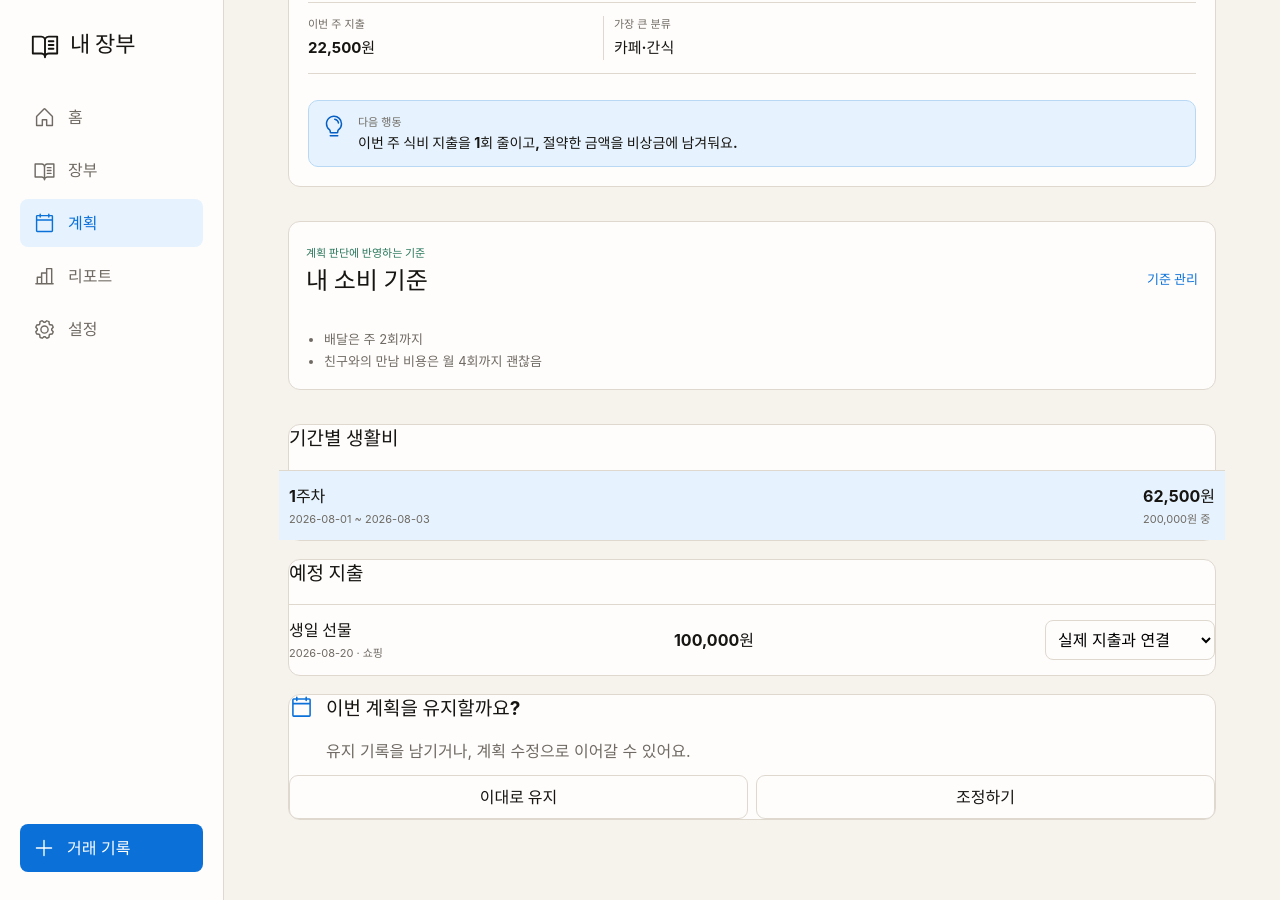
spending plan flow › shows active progress, bounded narrative, check-in, and manual matching
(page scrolled)
Click the button "이대로 유지" at coordinates (518, 797), box [289,775,748,819]
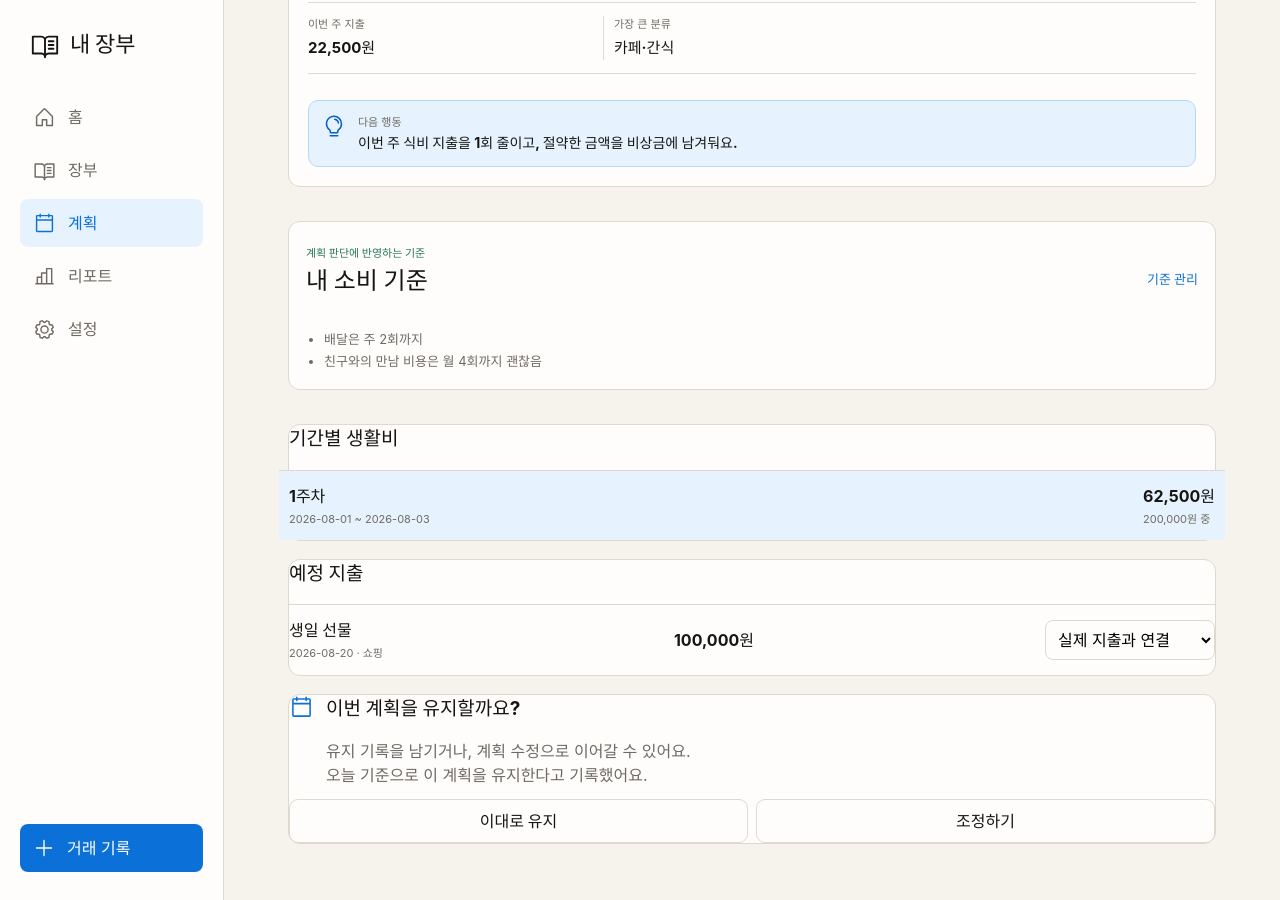
Now the message shows "유지한다고 기록", box [326,765,648,785]
Select "카페 온도 · 12,000원" in the dropdown named "생일 선물과 연결할 거래" at coordinates (1130, 640), box [1045,620,1215,660]
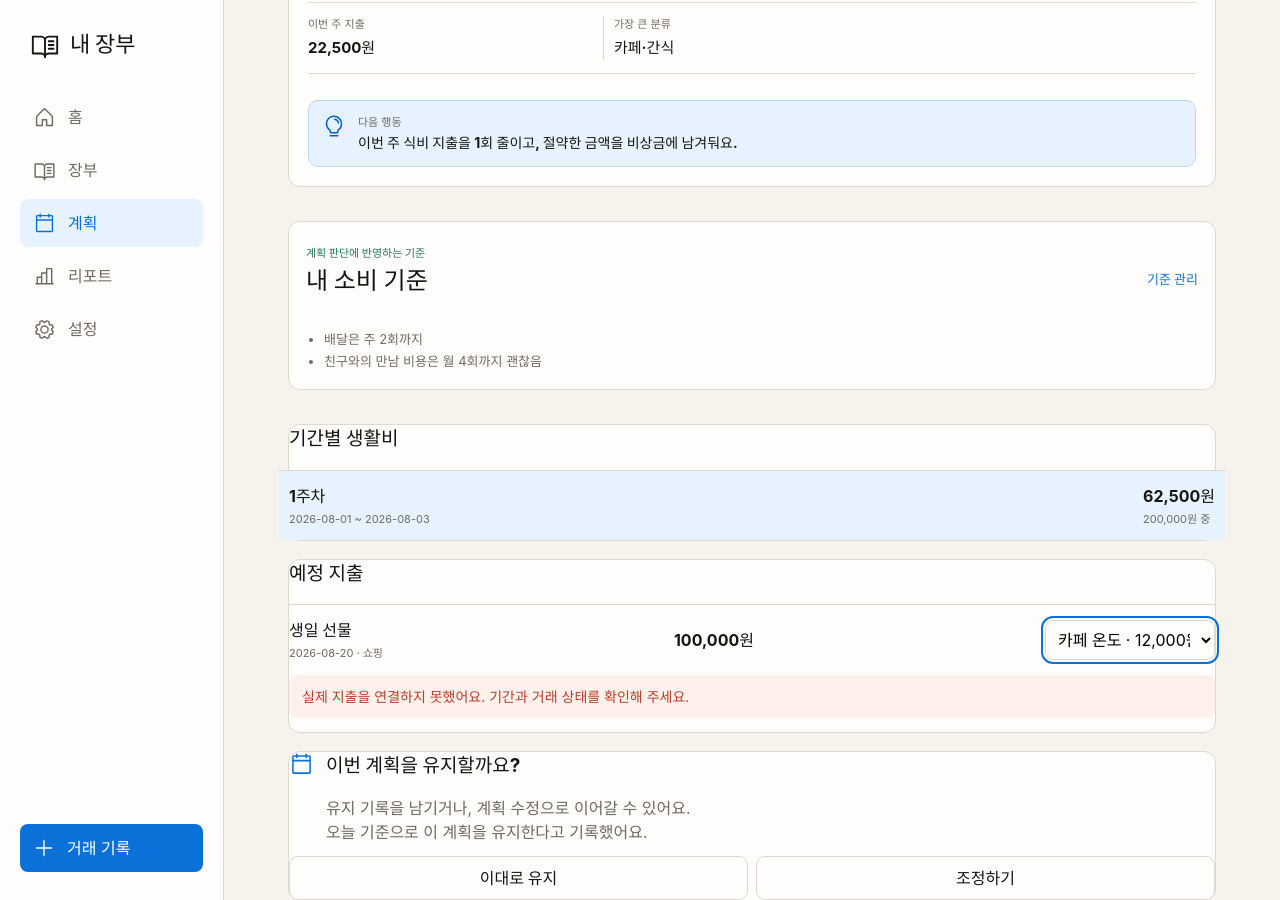
Now the message "실제 지출을 연결하지 못했어요. 기간과 거래 상태를 확인해 주세요." is shown, box [289,675,1215,718]
